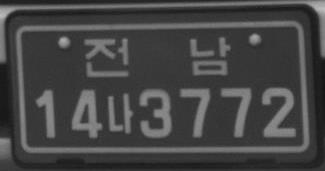1: (32, 88, 62, 138)
2: (259, 85, 297, 138)
3: (137, 87, 172, 140)
4: (70, 87, 103, 138)
7: (218, 86, 254, 139), (178, 86, 211, 140)
나: (106, 91, 133, 134)
전남_D: (82, 35, 231, 78)
